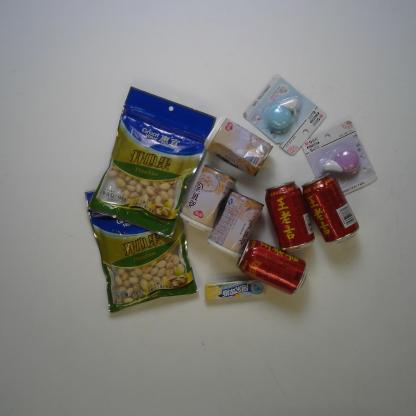Candy: (204, 278, 267, 301)
Canned Food: (204, 116, 274, 178), (204, 190, 266, 260), (178, 163, 238, 233)
Dried Fruit: (87, 86, 218, 240), (84, 188, 201, 314)
Drink: (300, 172, 360, 246), (236, 238, 309, 296), (264, 180, 316, 253)
Stationery: (242, 73, 328, 157), (300, 119, 379, 197)
